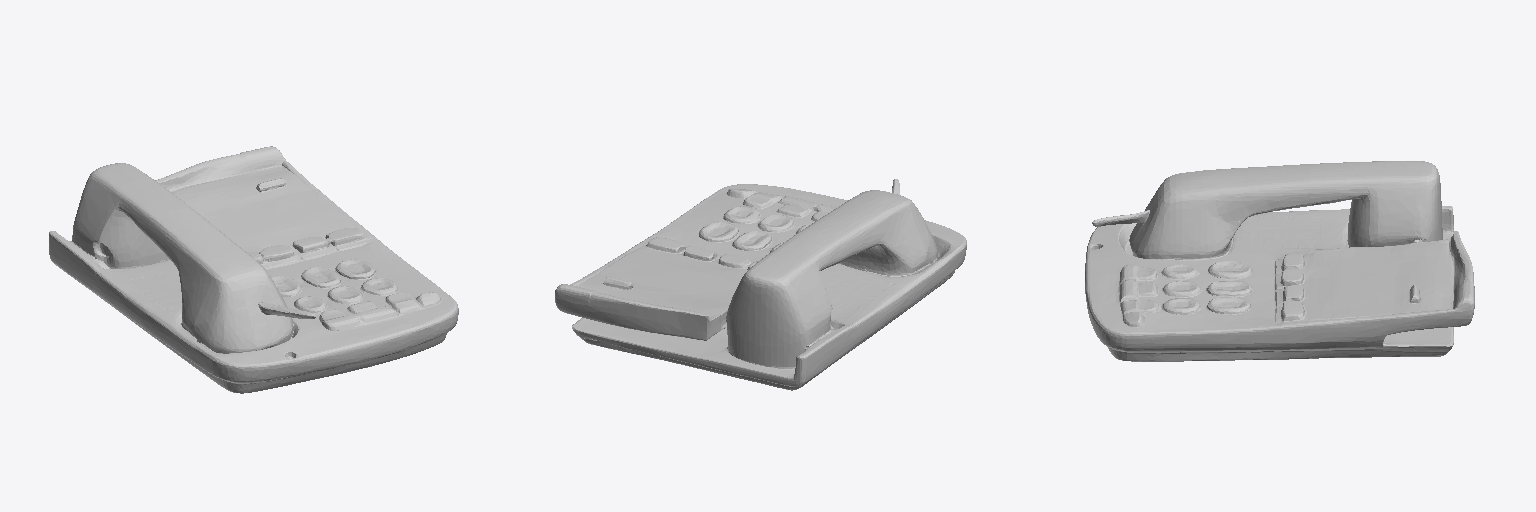
Rendered from telephone_visual.obj.
3 views of the same model, side by side, from view 1: azimuth 30°, elevation 25°; view 2: azimuth 150°, elevation 25°; view 3: azimuth 270°, elevation 25° (orthographic).
Bounding box in the file's own units: 0.0735 × 0.0299 × 0.0999.